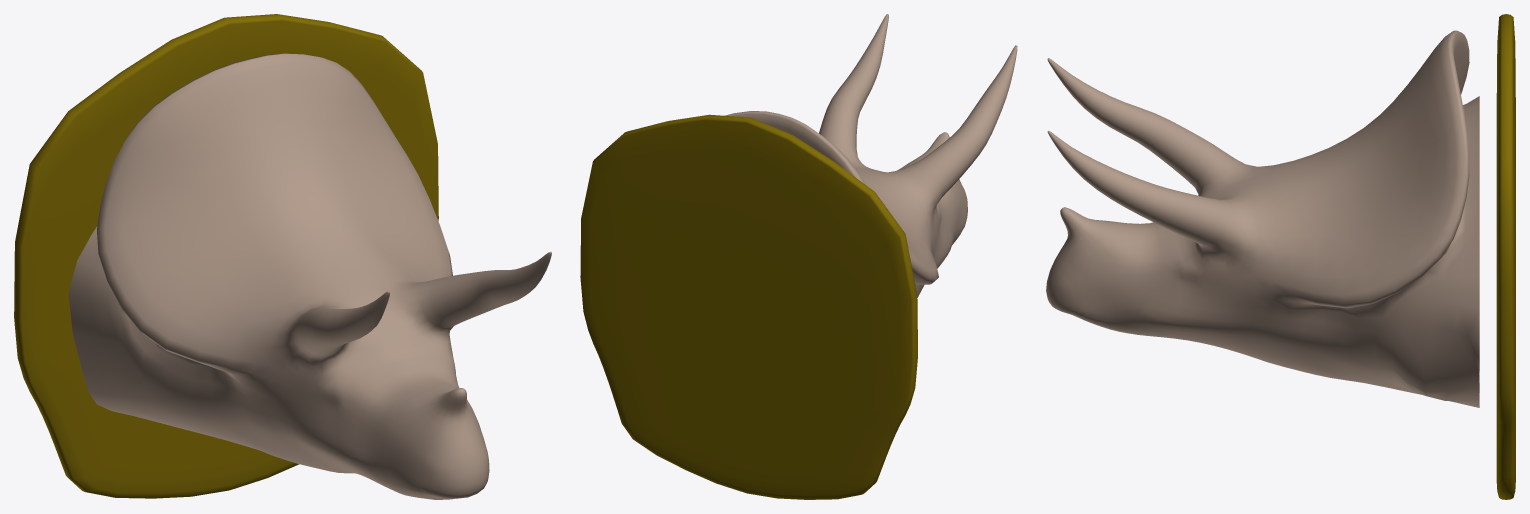
The model's file is Triceratops_Trophy.fbx.
3 views of the same model, side by side, from view 1: azimuth 30°, elevation 25°; view 2: azimuth 150°, elevation 25°; view 3: azimuth 270°, elevation 25° (orthographic). The views are drawn at different scales.
Parts seen in each view (by area): view 1: Triceratops_trophy; view 2: Triceratops_trophy; view 3: Triceratops_trophy.
Part boxes in pixels (x1=…): Triceratops_trophy: x1=14, y1=14, x2=551, y2=499; Triceratops_trophy: x1=580, y1=14, x2=1017, y2=499; Triceratops_trophy: x1=1046, y1=14, x2=1515, y2=499.
Bounding box in the file's own units: 170 × 181 × 178.
